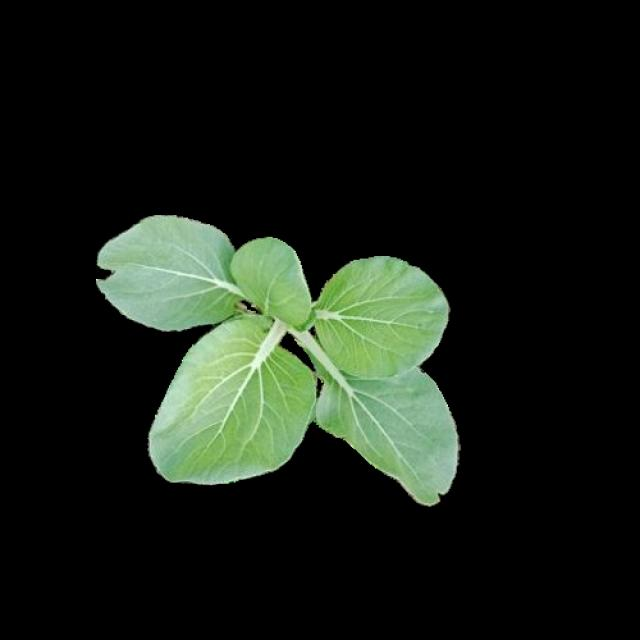healthy: (93, 211, 457, 501)
not-mature: (96, 214, 460, 503)
